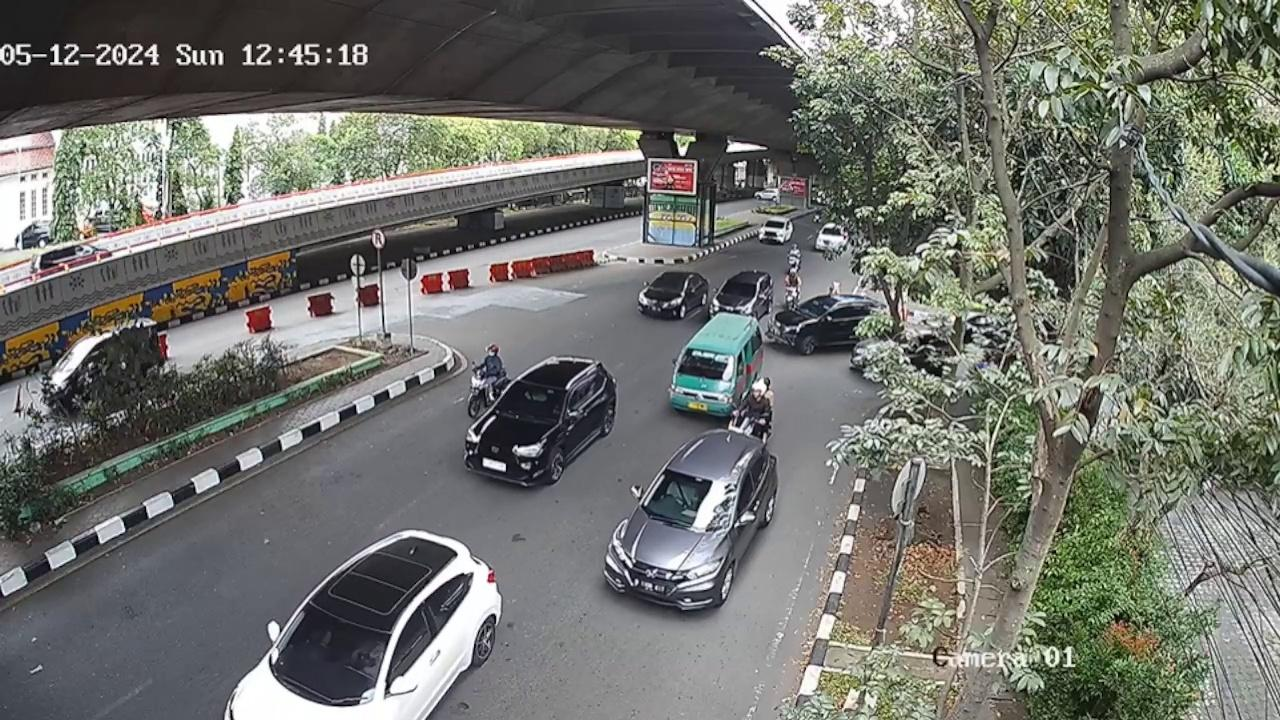pakai: (663, 480, 702, 513)
windshield: (273, 603, 395, 687), (645, 467, 738, 533), (495, 380, 570, 424), (672, 349, 739, 384)
